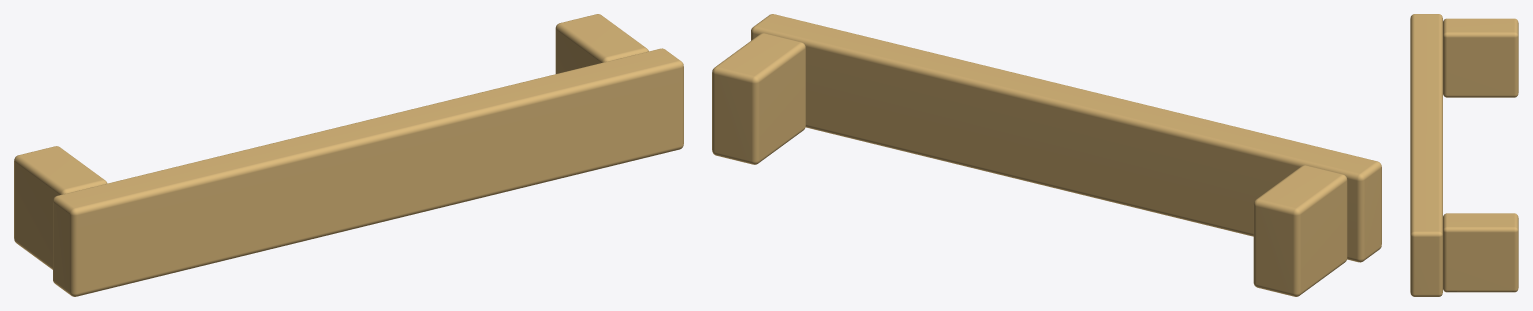
Rendered from eurofit-h-65804-128gl.glb.
3 views of the same model, side by side, from view 1: azimuth 30°, elevation 25°; view 2: azimuth 150°, elevation 25°; view 3: azimuth 270°, elevation 25° (orthographic). The views are drawn at different scales.
Visible parts, largest first — view 1: Rectangular grip, Mounting standoff, Mounting standoff.001; view 2: Rectangular grip, Mounting standoff, Mounting standoff.001; view 3: Rectangular grip, Mounting standoff, Mounting standoff.001.
Part boxes in pixels (box(x1,y1,x2,y2)): Rectangular grip: box(53, 48, 683, 296); Mounting standoff: box(14, 146, 107, 269); Mounting standoff.001: box(555, 14, 648, 73); Rectangular grip: box(751, 14, 1381, 262); Mounting standoff: box(1253, 165, 1347, 296); Mounting standoff.001: box(712, 33, 805, 164); Rectangular grip: box(1410, 14, 1442, 296); Mounting standoff: box(1443, 18, 1518, 97); Mounting standoff.001: box(1443, 213, 1518, 292).
Bounding box in the file's own units: 0.145 × 0.02 × 0.03.
